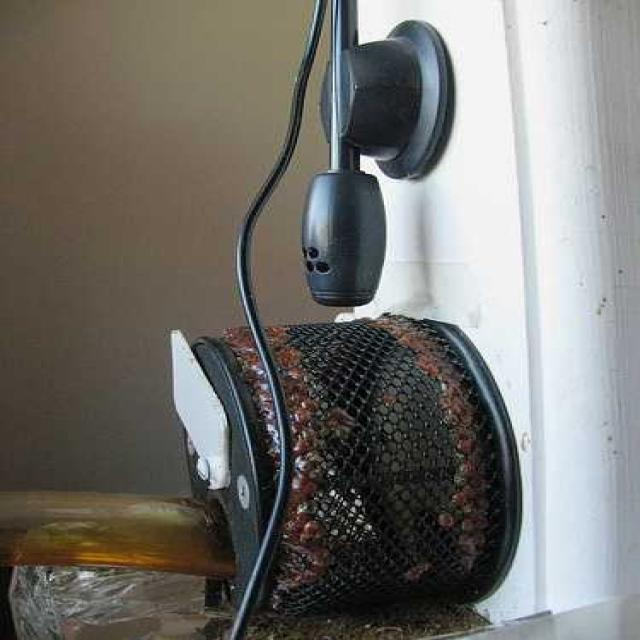microphone: (273, 142, 401, 314)
